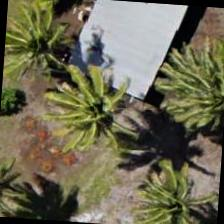Kelapa_Sawit: (46, 58, 142, 154), (1, 0, 84, 91), (125, 156, 221, 223), (162, 39, 223, 134)
